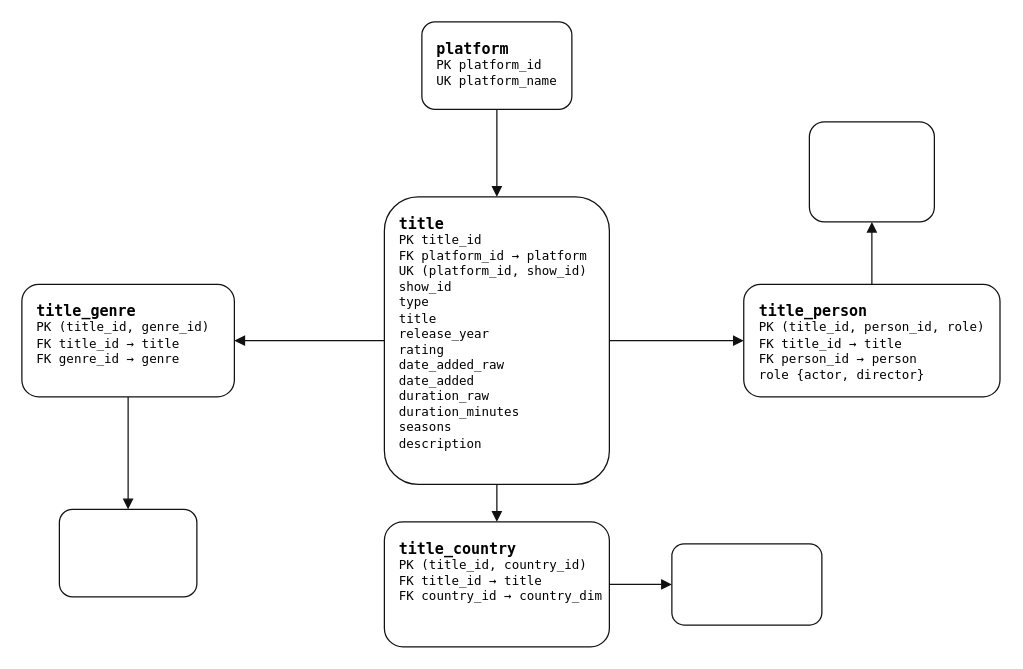
Image size: 1023x669. Some labels were removed from this diagram. The centre of each missing label's shape, as x and y in pixels:
country_dim PK country_id UK country_name: the point at 746,583
genre PK genre_id UK genre_name: the point at 127,552
person PK person_id UK full_name: the point at 871,171
